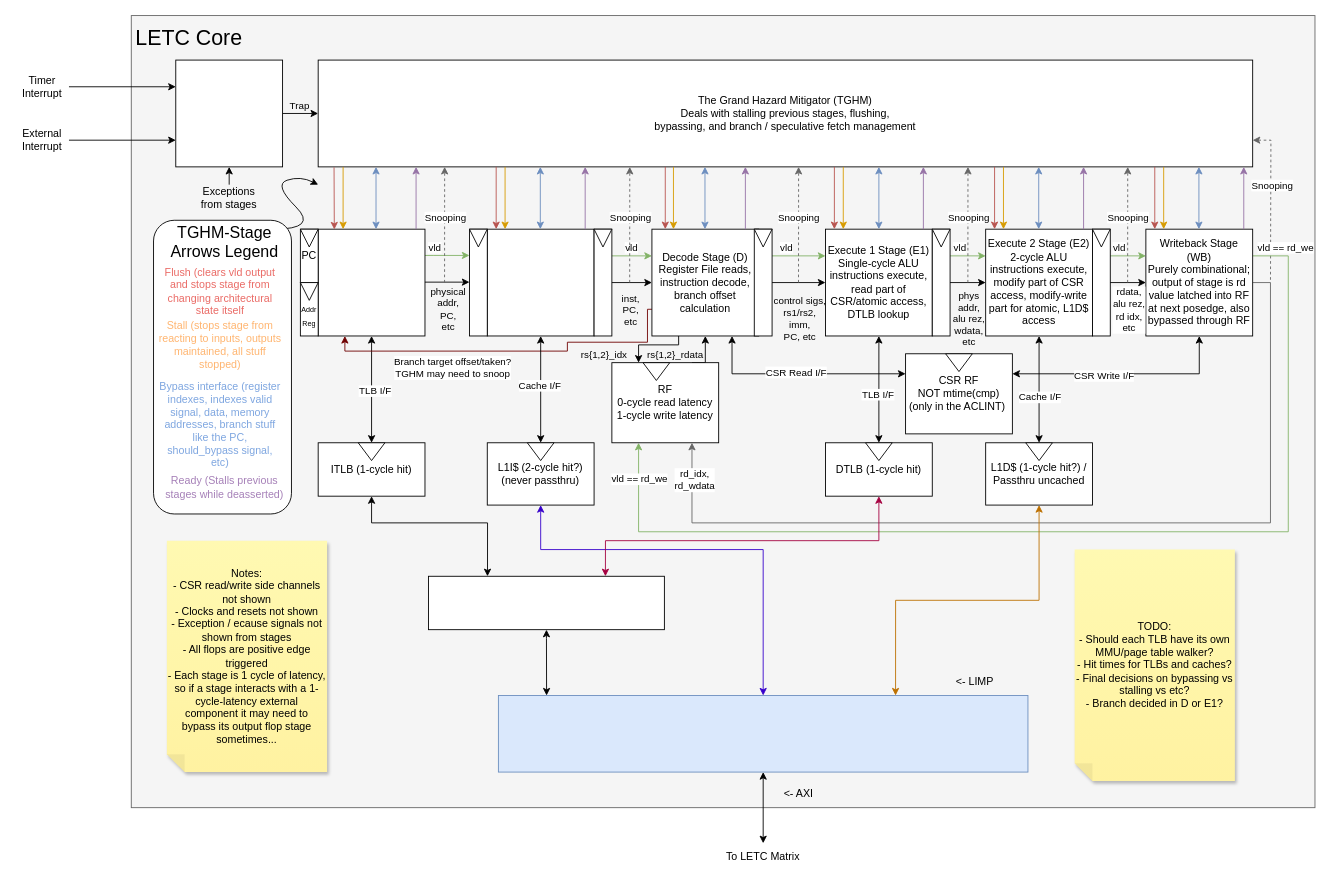
This 1331x886 diagram has some shape labels left out. The centre of each missing label's shape, as x and y in pixels:
"AXI FSM" belongs at pixel 763 733.
"Fetch 1 Stage (F1) PC management, Branch prediction, and ITLB lookup" belongs at pixel 371 282.
"Fetch 2 Stage (F2) L1I$ access" belongs at pixel 540 282.
"Interrupt / Exception Controller" belongs at pixel 229 113.
"MMU and Page Table Walker" belongs at pixel 546 602.
